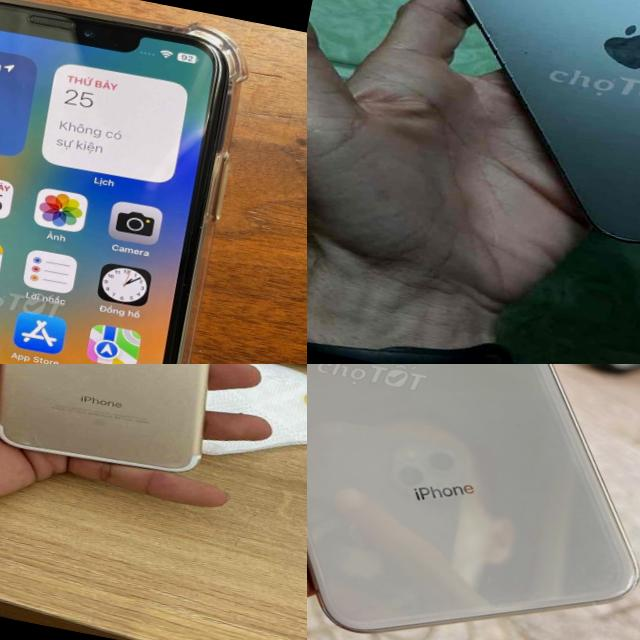gen_12_13: (371, 0, 640, 292)
gen_7_8: (0, 364, 252, 483)
gen_x_xs: (0, 0, 281, 364), (307, 364, 638, 632)
